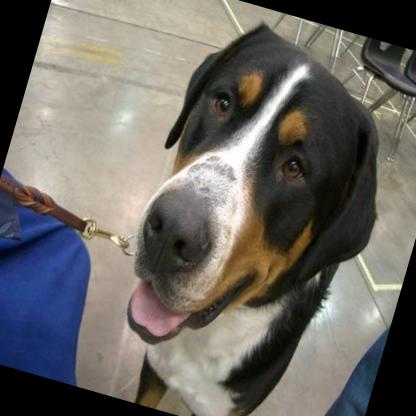Greater_Swiss_Mountain_dog: (94, 1, 416, 416)
